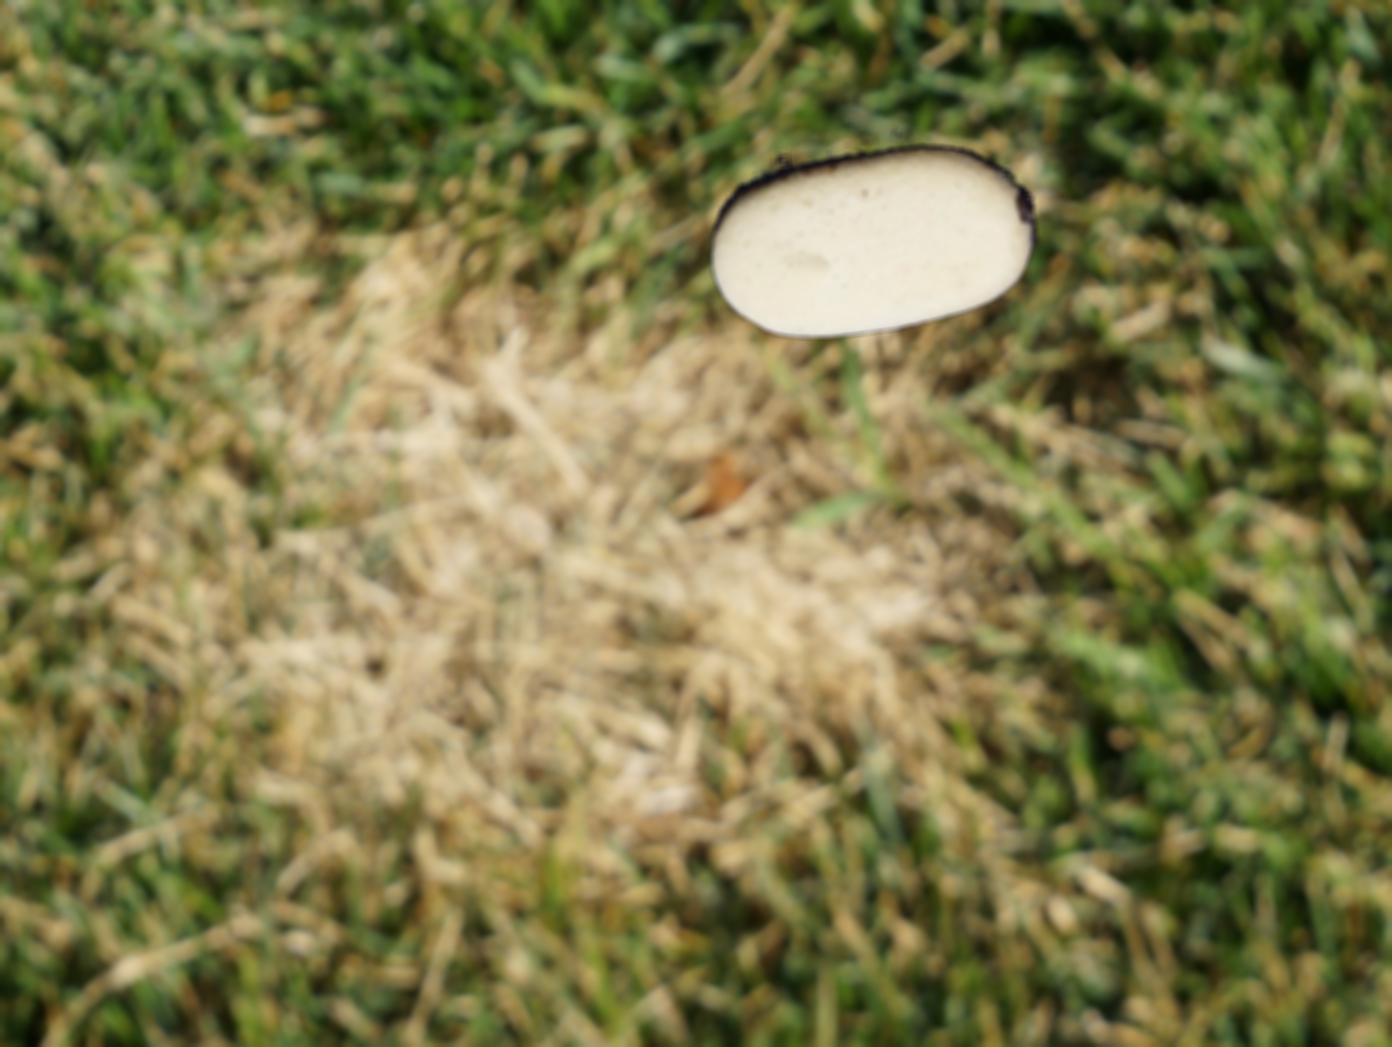test: (674, 42, 1071, 431)
